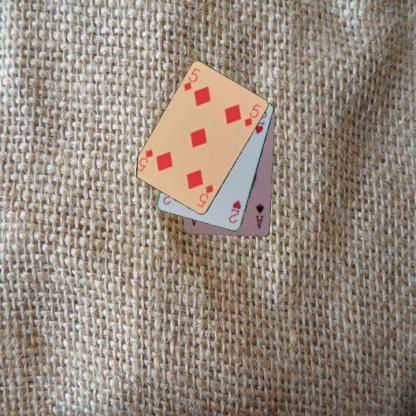2h: (227, 198, 242, 224)
5d: (180, 66, 202, 92), (194, 182, 215, 209)
As: (254, 201, 265, 230)
